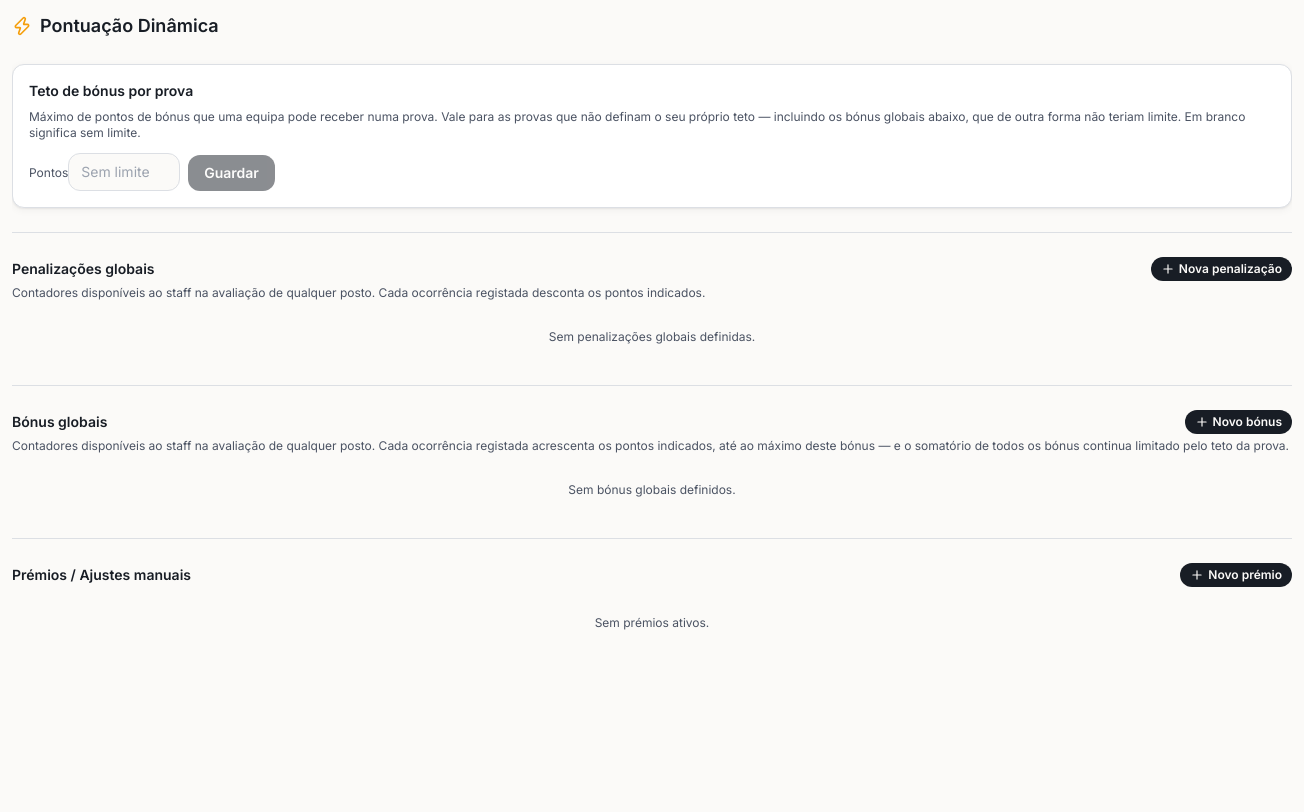
Scenario: DynamicScoringTab › shows error message when rule creation fails
The image size is (1304, 812).
Click the button "Nova penalização": (1221, 269) [1151,257,1292,281]
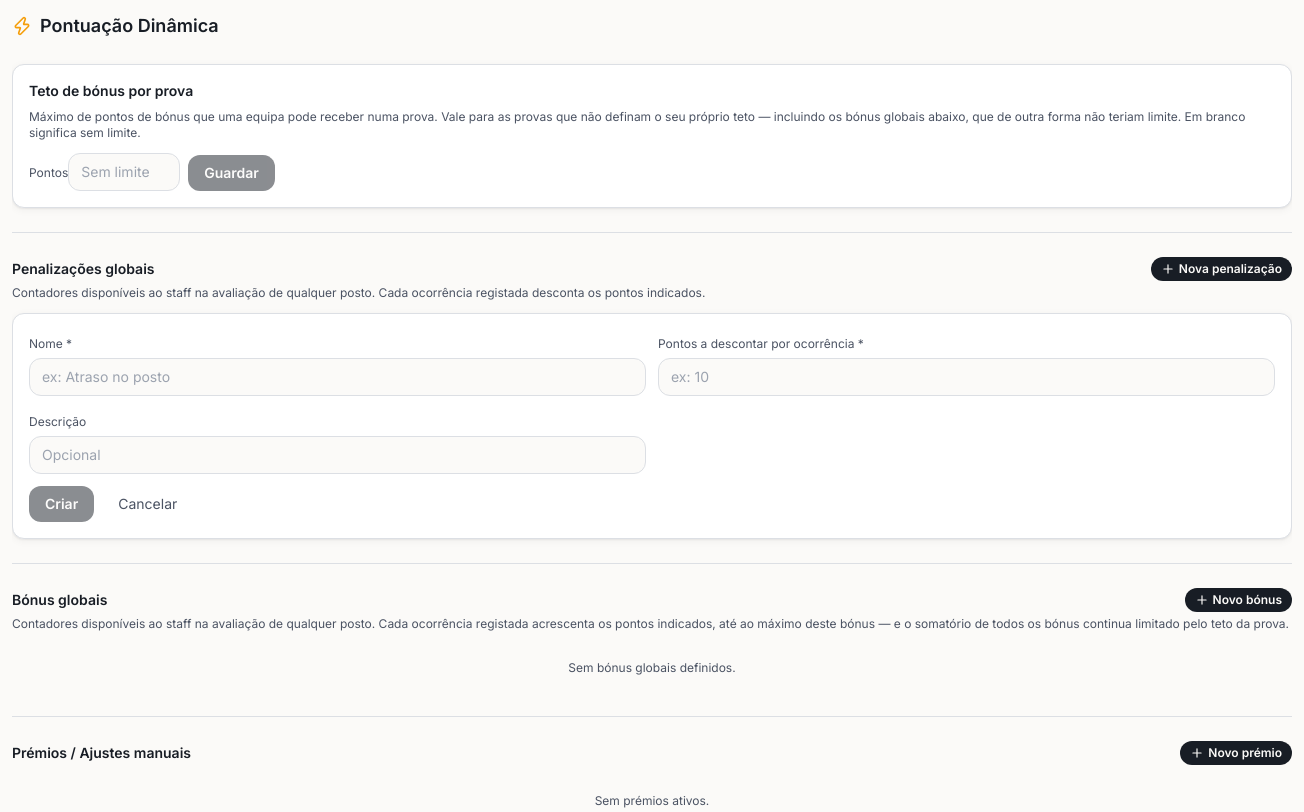
In the field with placeholder "ex: Atraso no posto": (338, 377) [29,358,646,396], type "X"
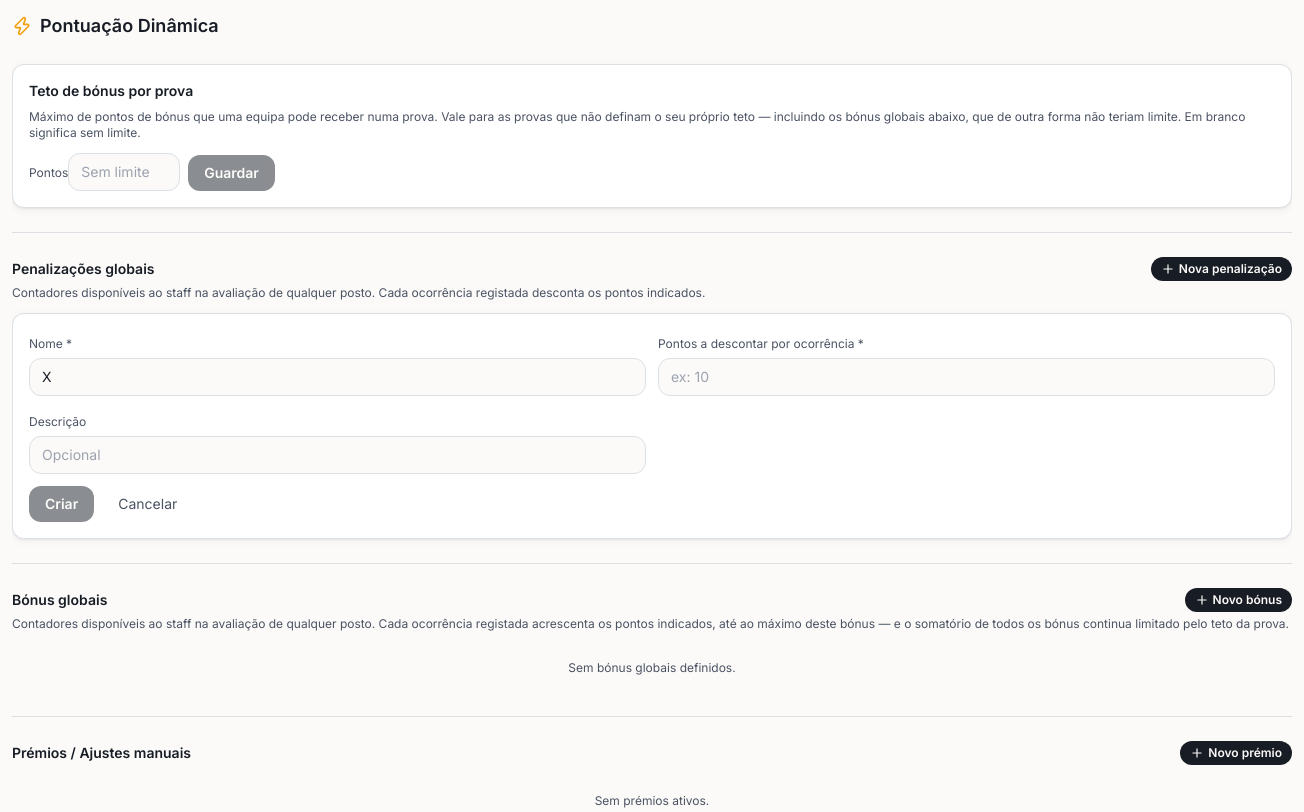
In the number field with placeholder "ex: 10": (966, 377) [658,358,1275,396], type "5"
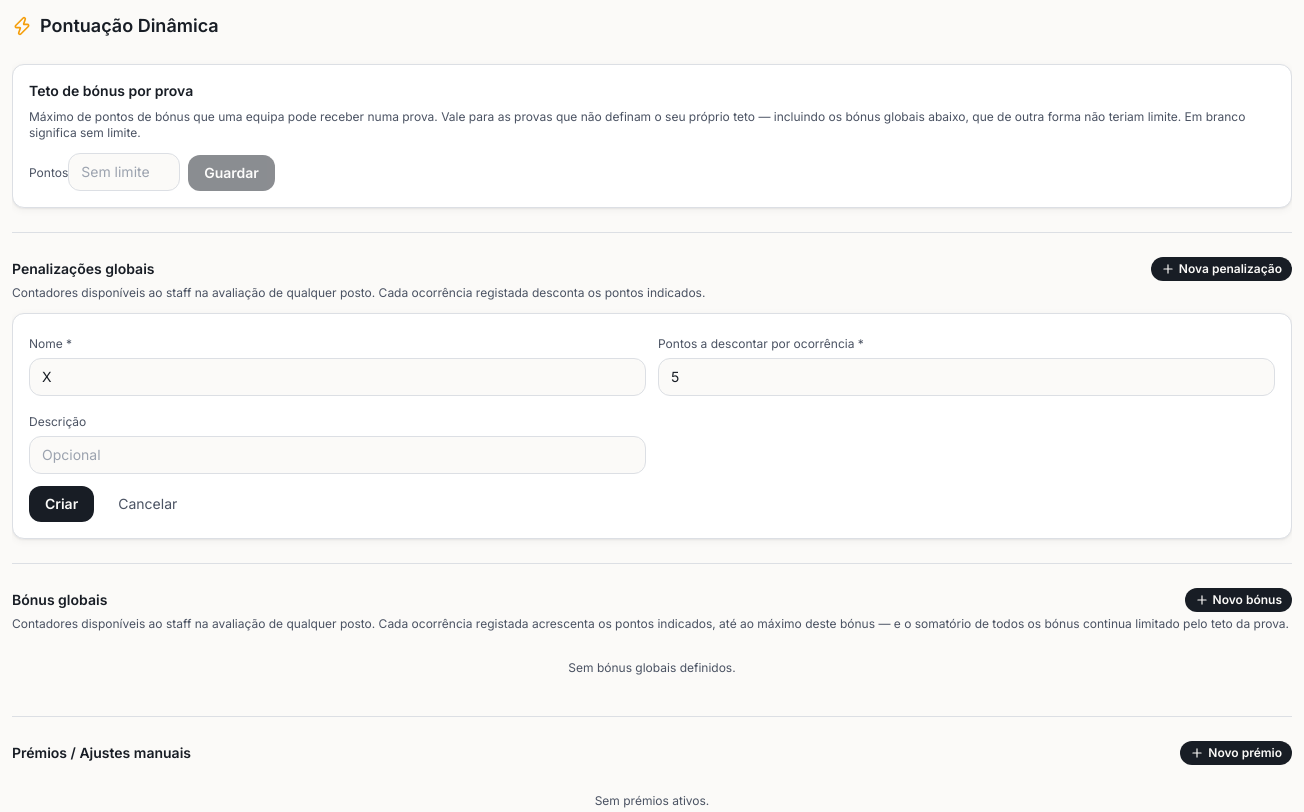
Click the button "Criar": (62, 504) [29,486,94,522]
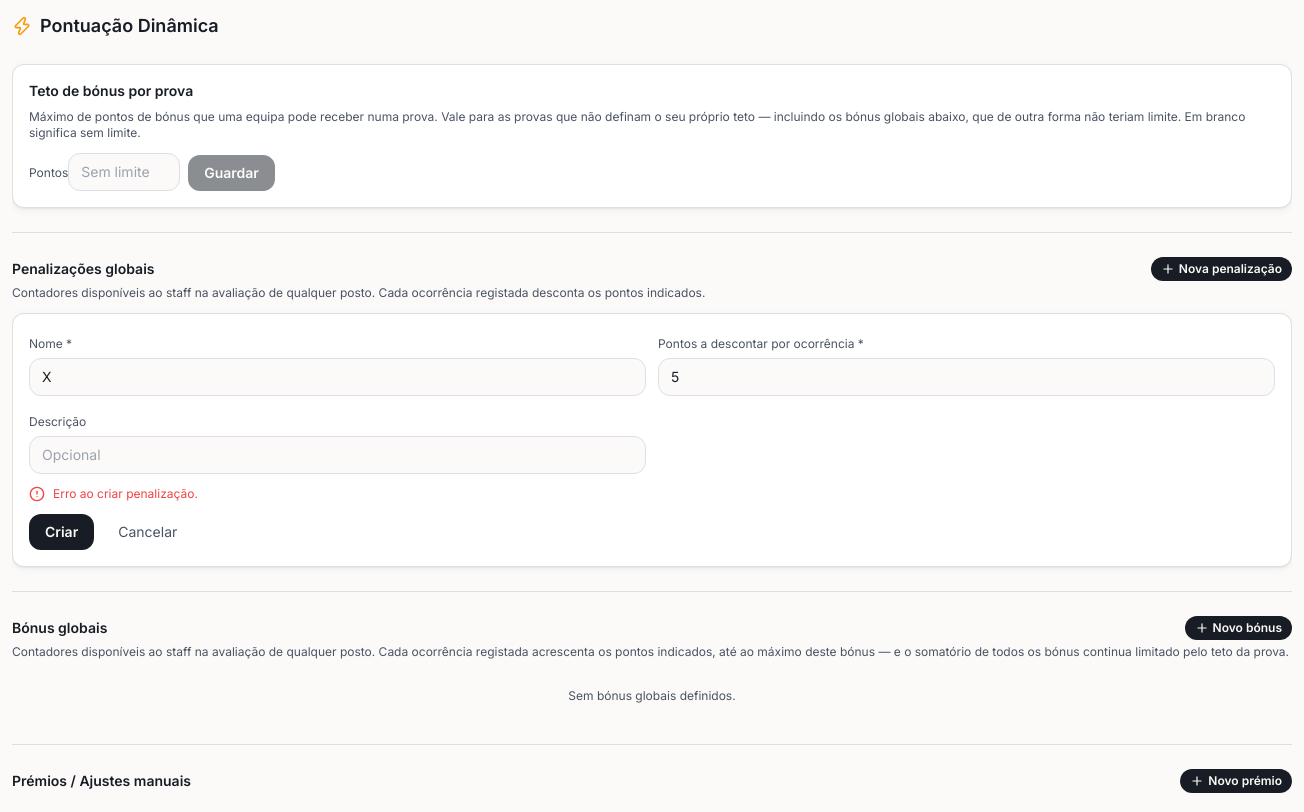
Expected: the text "Erro ao criar penalização." is shown, [29,486,198,502]
